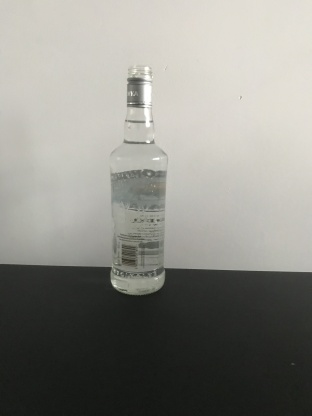nakretka: (124, 62, 154, 110)
